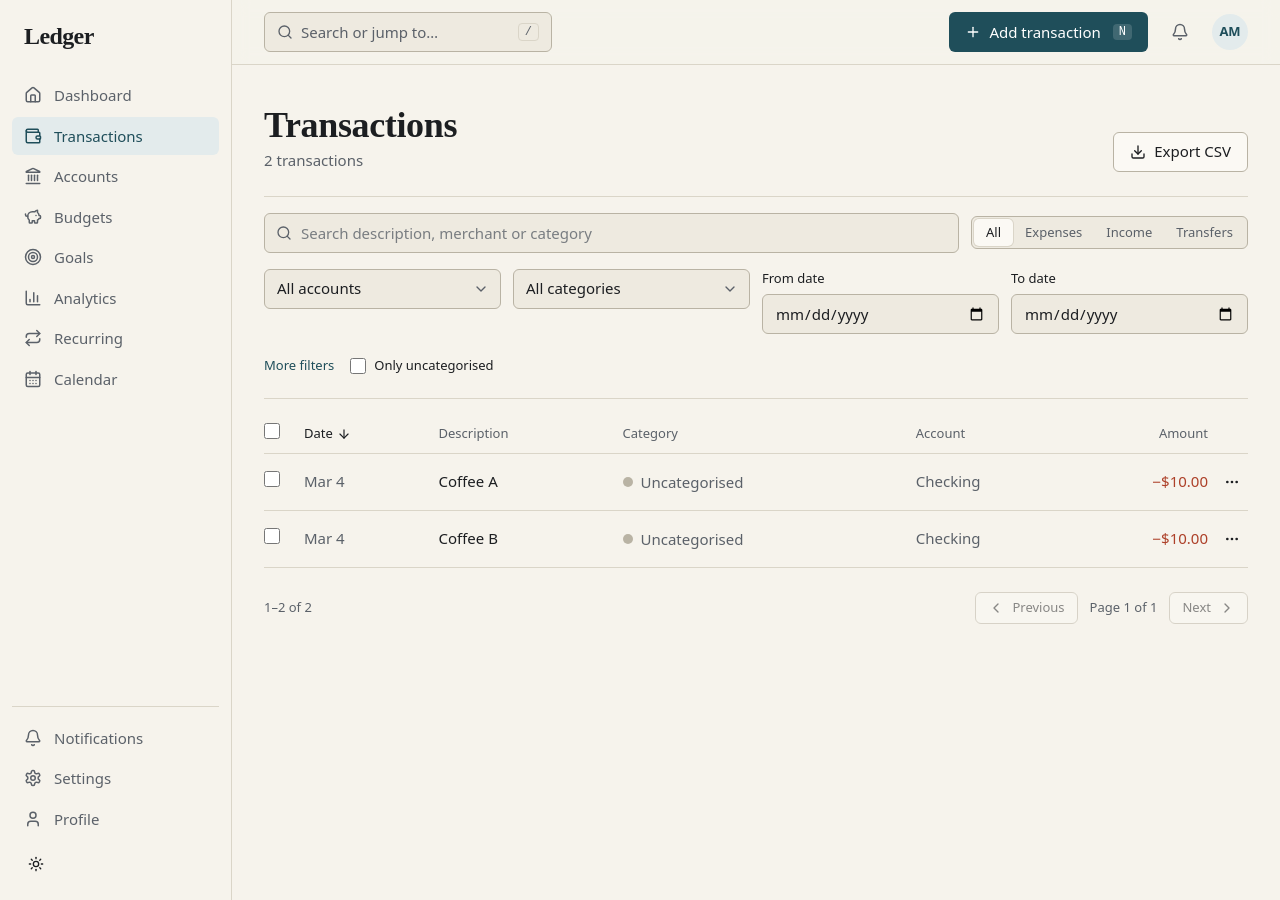
Test: transactions list › assigns a category to the selected rows
This screenshot has width=1280, height=900.
Click the checkbox named "Select all on this page" at coordinates (272, 431), box [264,423,280,439]
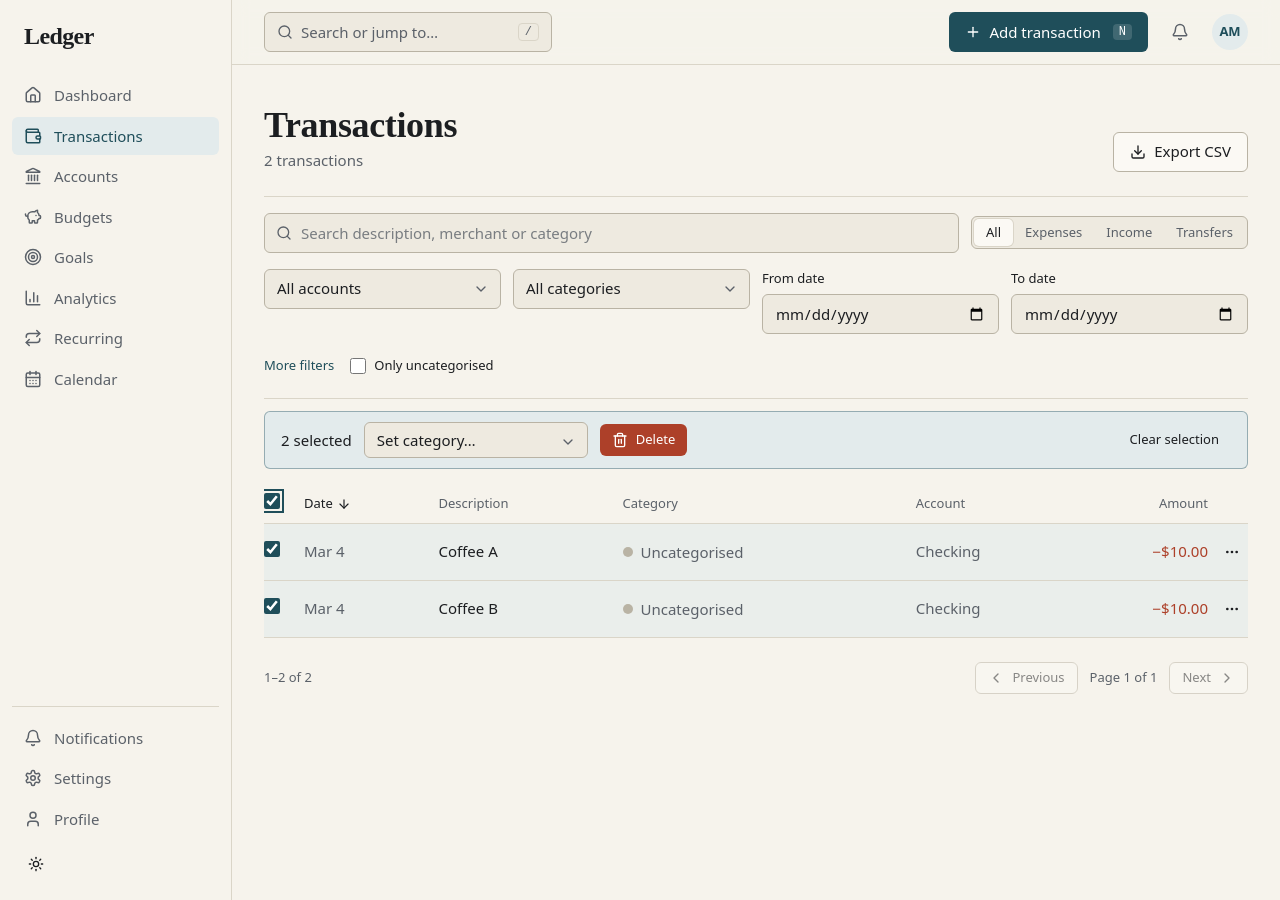
expect the text "2 selected" is shown: met, box [281,429,352,451]
Select "Coffee" in the dropdown named "Set category for selected" at coordinates (476, 440), box [364,422,588,458]
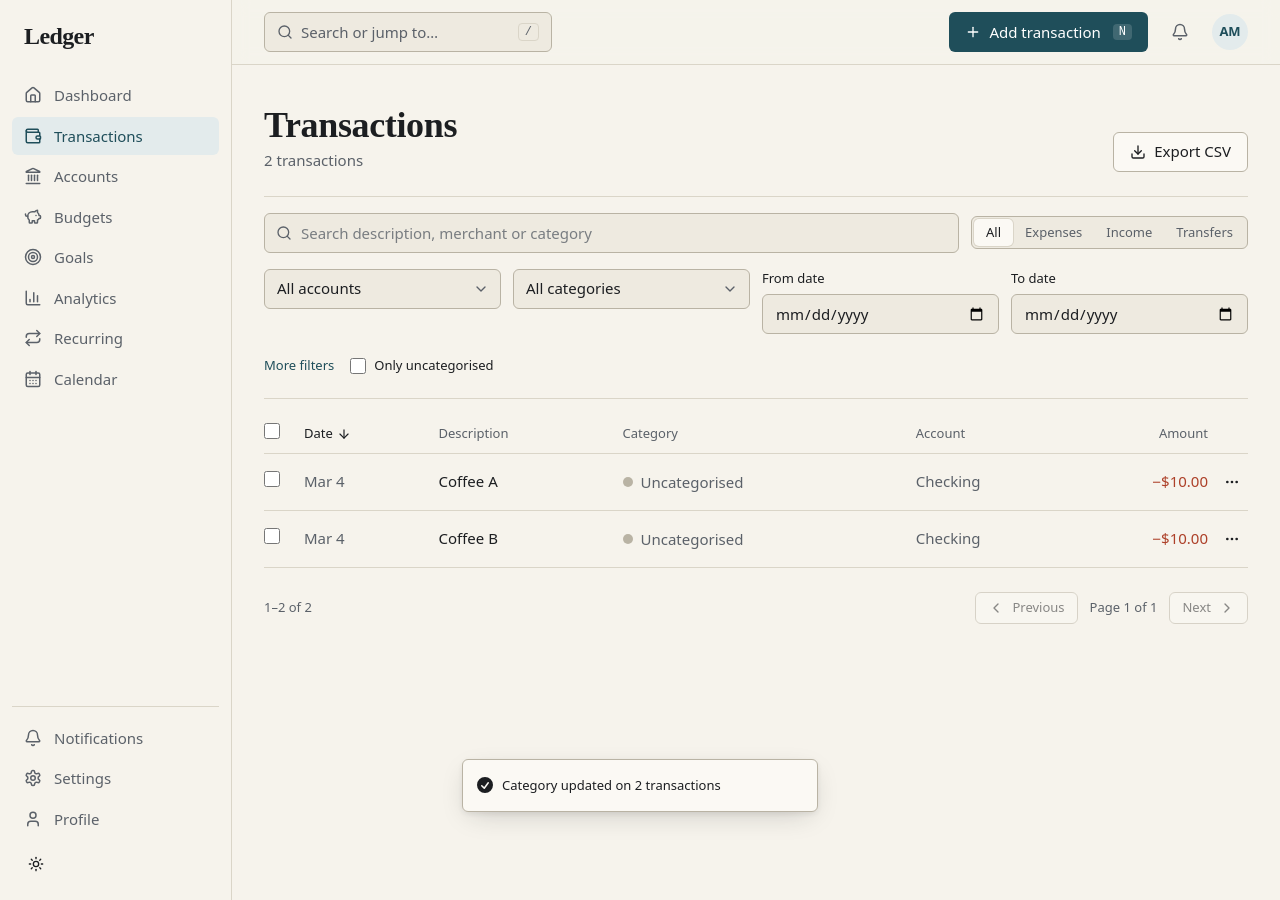
expect the text "Category updated on 2 transactions" is shown: met, box [502,776,721,795]
